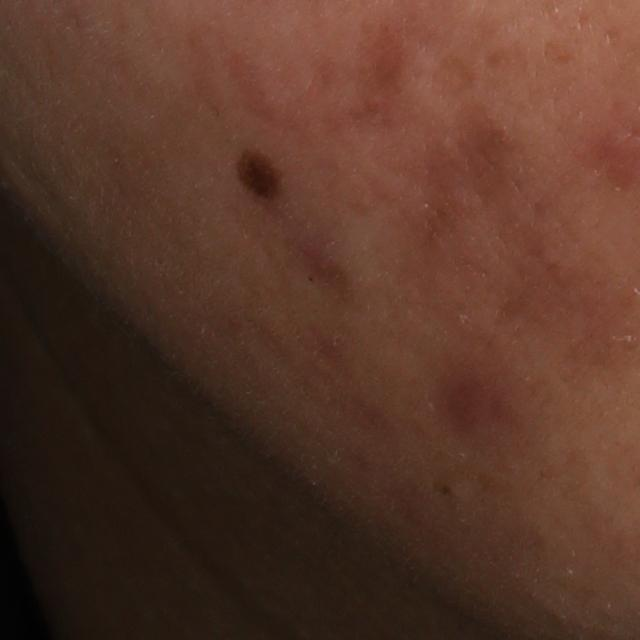atrophic_scar: (428, 52, 477, 104)
nevus: (232, 147, 292, 206)
